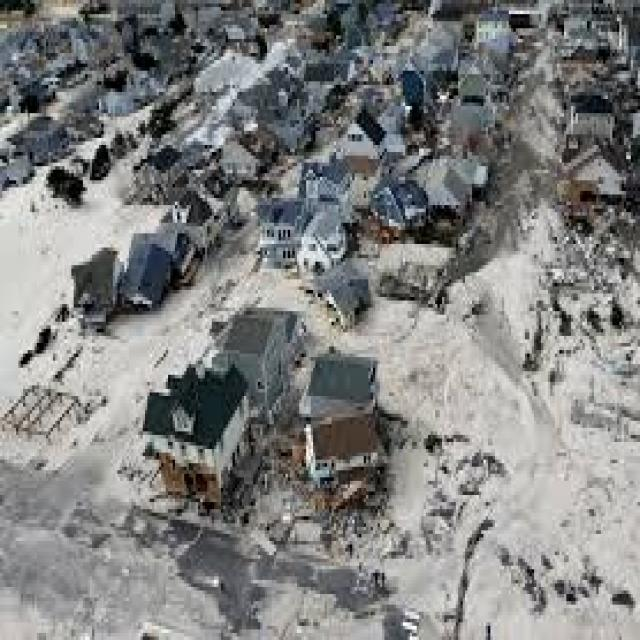Hurricane: (53, 116, 562, 640)
